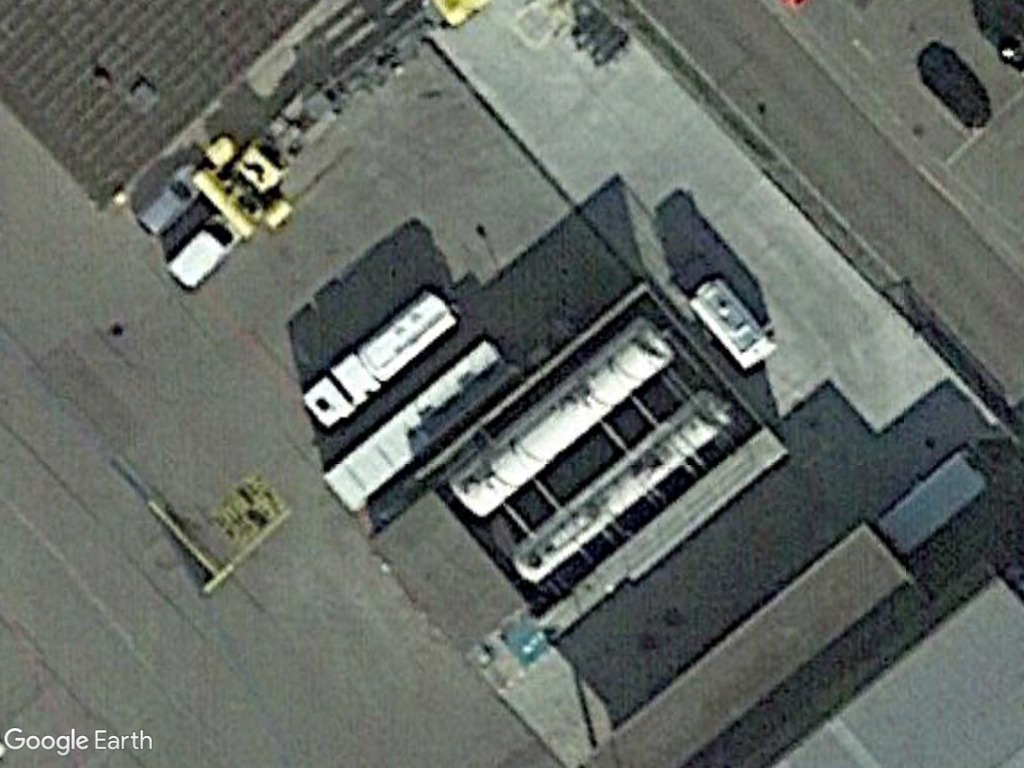bus: (322, 334, 519, 518)
truck: (300, 284, 465, 435)
